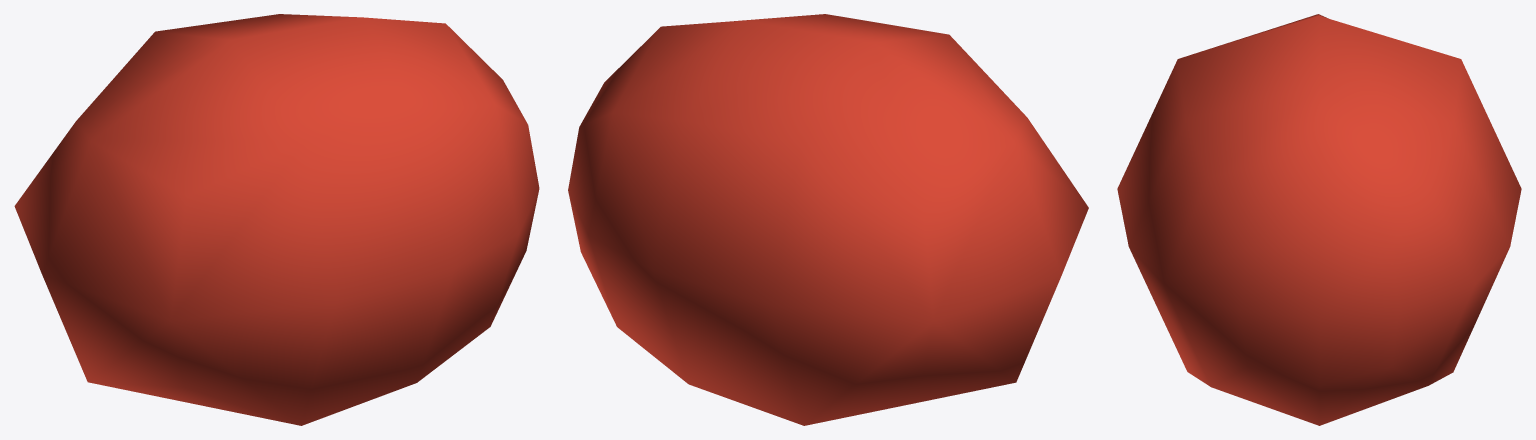
The model's file is bandanadee_mano_izq.obj.
3 views of the same model, side by side, from view 1: azimuth 30°, elevation 25°; view 2: azimuth 150°, elevation 25°; view 3: azimuth 270°, elevation 25° (orthographic). The views are drawn at different scales.
Bounding box in the file's own units: 0.4533 × 0.3386 × 0.3564.
